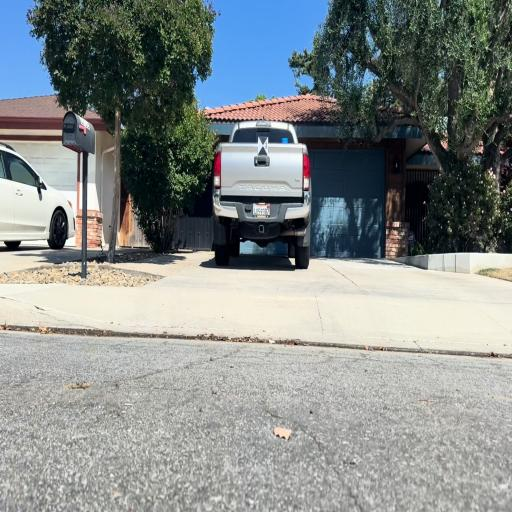target1: (258, 136, 268, 156)
